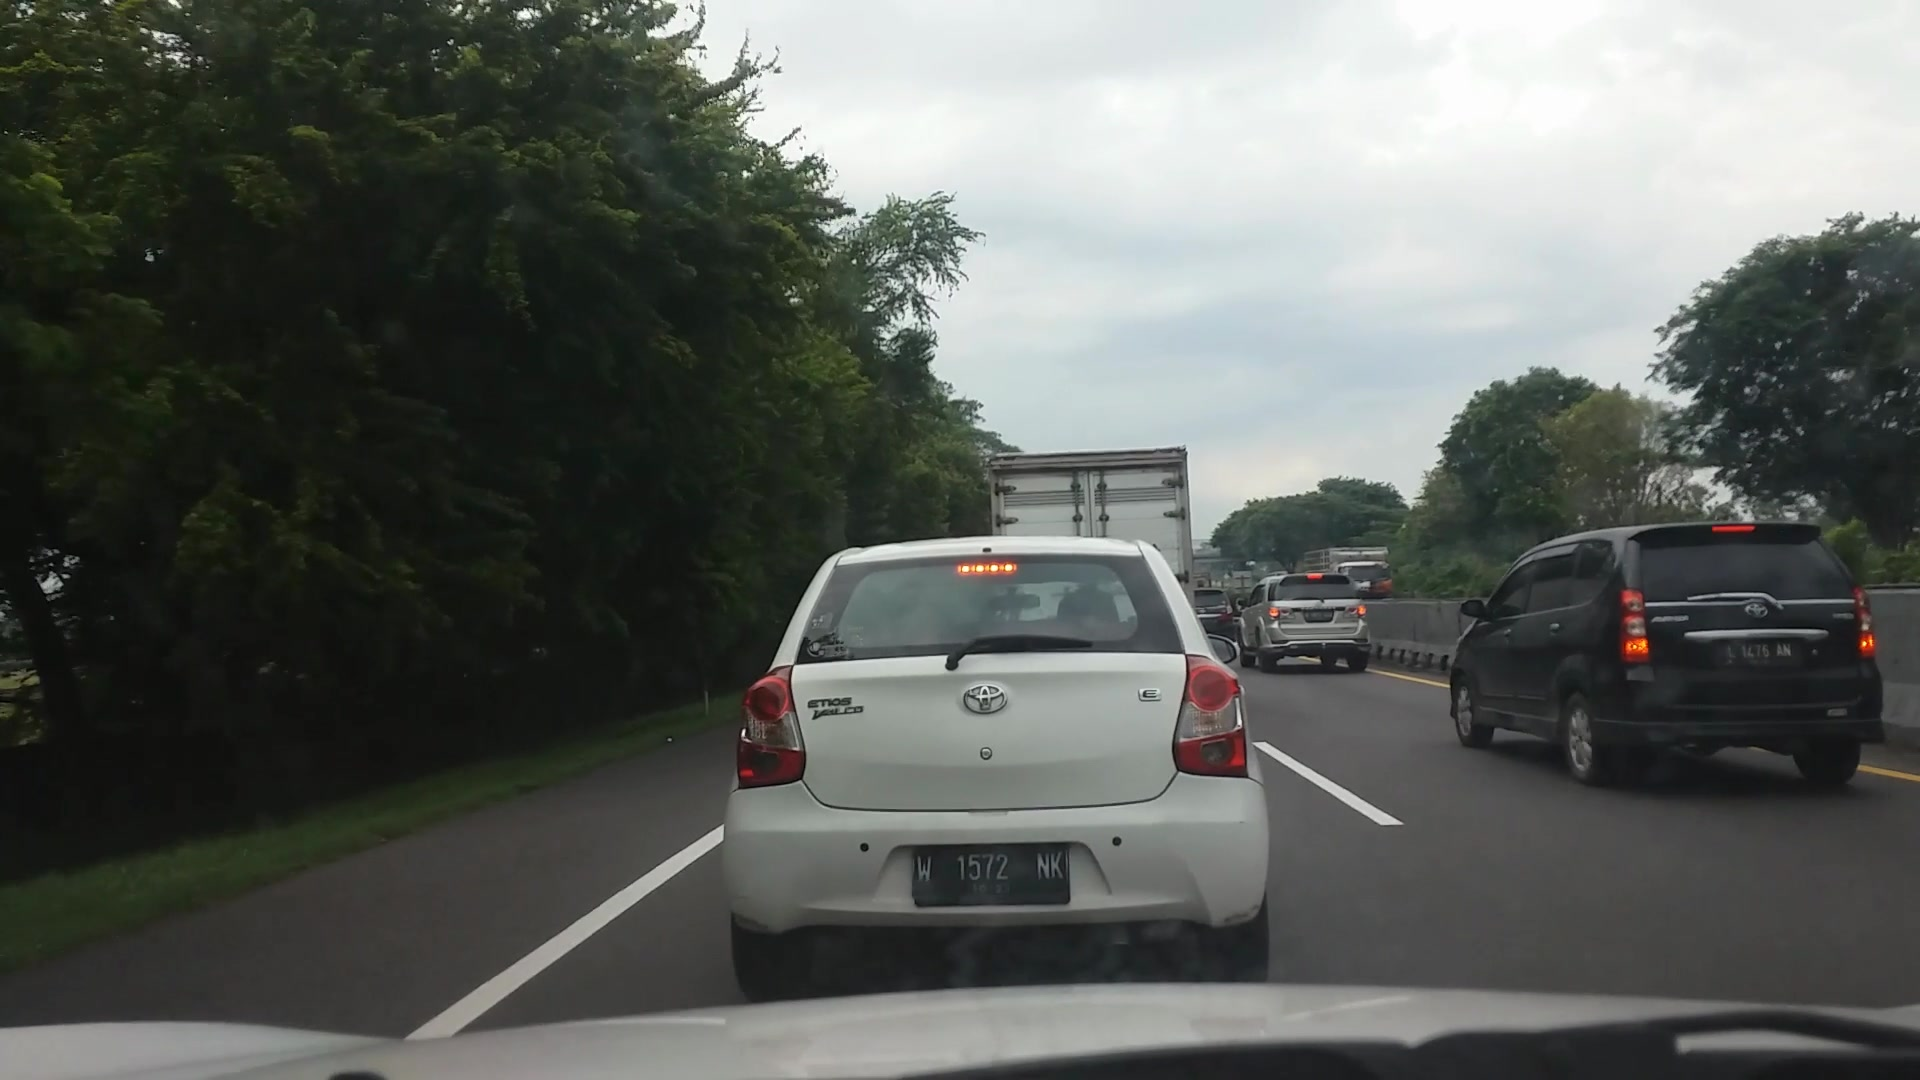plate_positive: (911, 844, 1069, 905)
